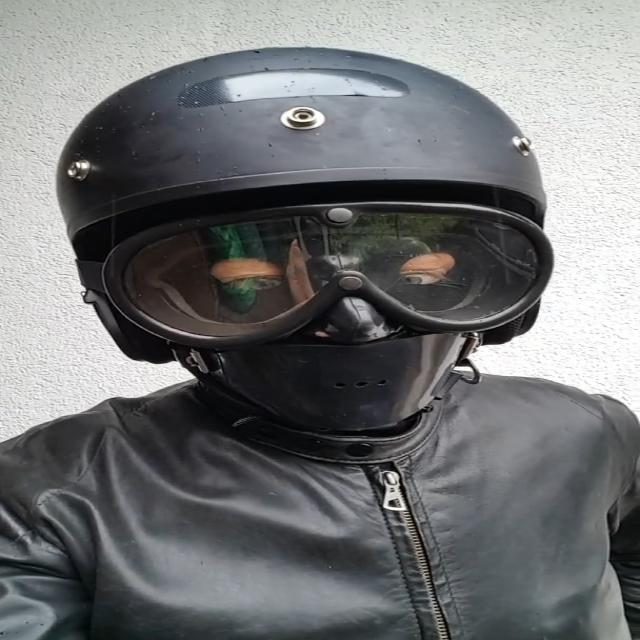Helmet_Wearer: (54, 45, 565, 432)
Jacket_Wearer: (3, 336, 640, 640)
Person: (0, 52, 640, 640)
